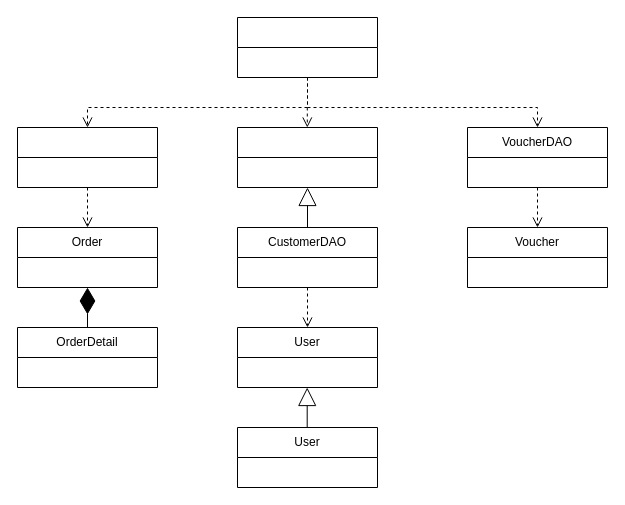
Image size: 625x505. Some labels were removed from this diagram. The shapes that lost their labels are listed below. From the top down, each one's centre as x and y in pixels, then its label:
At point (307, 47): "CustomerController".
At point (87, 157): "OrderDAO".
At point (307, 157): "UserDAO".
